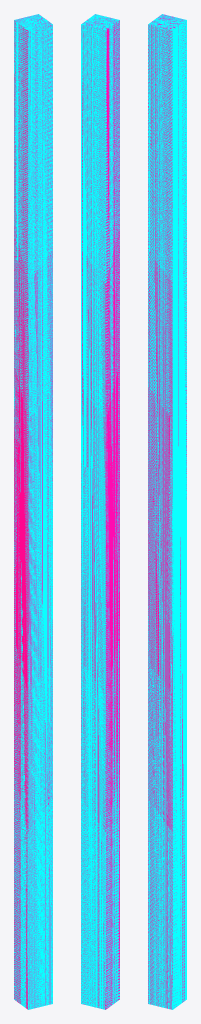
File: vk_bg_cyl-transformed.glb
The picture shows the model from 3 angles, left to right: view 1: azimuth 30°, elevation 25°; view 2: azimuth 150°, elevation 25°; view 3: azimuth 330°, elevation 25°; orthographic projection.
Parts seen in each view (by area): view 1: Cube.007, Cube.028; view 2: Cube.007, Cube.028; view 3: Cube.007, Cube.028.
Boxes of the visible parts, x1,y1,x2,y2 form: Cube.007: [14, 14, 52, 1009]; Cube.028: [14, 14, 52, 1009]; Cube.007: [81, 14, 119, 1009]; Cube.028: [81, 14, 119, 1009]; Cube.007: [148, 14, 186, 1009]; Cube.028: [148, 14, 186, 1009].
Bounding box in the file's own units: 0.0476 × 1.8 × 0.0476.
